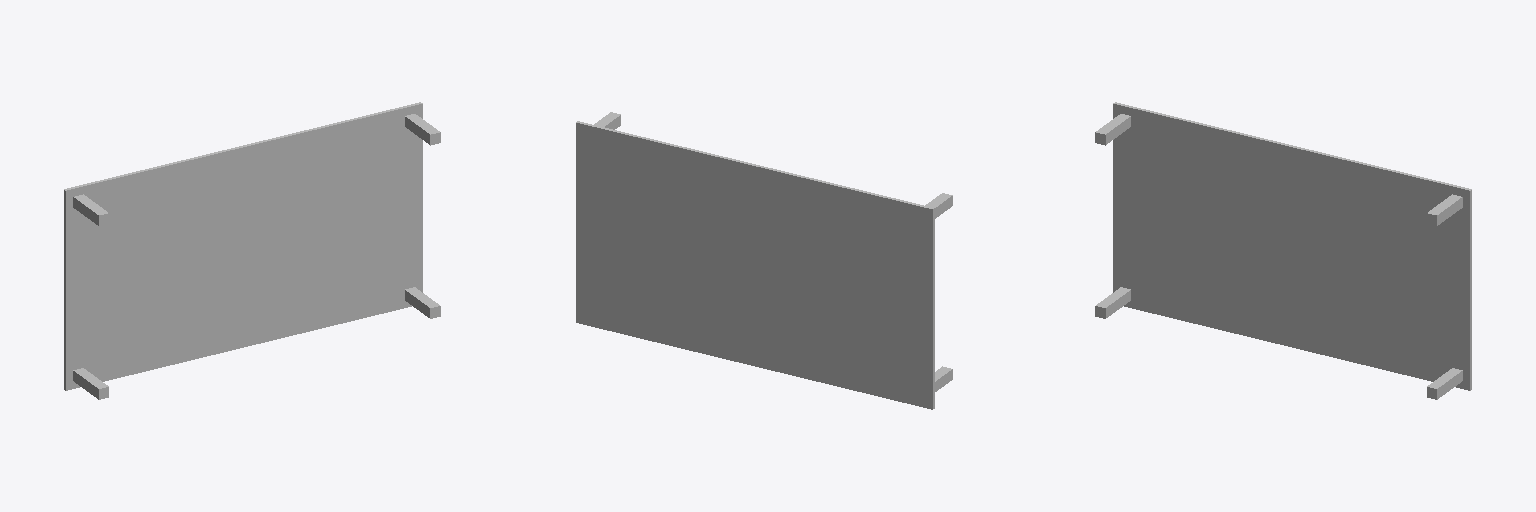
File: random_table94.obj
3 views of the same model, side by side, from view 1: azimuth 30°, elevation 25°; view 2: azimuth 150°, elevation 25°; view 3: azimuth 330°, elevation 25° (orthographic).
Visible parts, largest first — view 1: Table_Cube.1535, TableLeg2_Cube.1538, TableLeg3_Cube.1539, TableLeg1_Cube.1537, TableLeg0_Cube.1536; view 2: Table_Cube.1535; view 3: Table_Cube.1535, TableLeg3_Cube.1539, TableLeg2_Cube.1538, TableLeg0_Cube.1536, TableLeg1_Cube.1537.
Boxes of the visible parts, x1,y1,x2,y2 form: Table_Cube.1535: [64, 102, 422, 390]; TableLeg2_Cube.1538: [405, 287, 440, 318]; TableLeg3_Cube.1539: [73, 368, 108, 399]; TableLeg1_Cube.1537: [73, 194, 108, 225]; TableLeg0_Cube.1536: [405, 114, 440, 145]; Table_Cube.1535: [576, 121, 934, 409]; Table_Cube.1535: [1113, 102, 1471, 390]; TableLeg3_Cube.1539: [1095, 287, 1130, 318]; TableLeg2_Cube.1538: [1427, 368, 1462, 399]; TableLeg0_Cube.1536: [1427, 194, 1462, 225]; TableLeg1_Cube.1537: [1095, 114, 1130, 145].
Bounding box in the file's own units: 11.74 × 6.3 × 1.58.